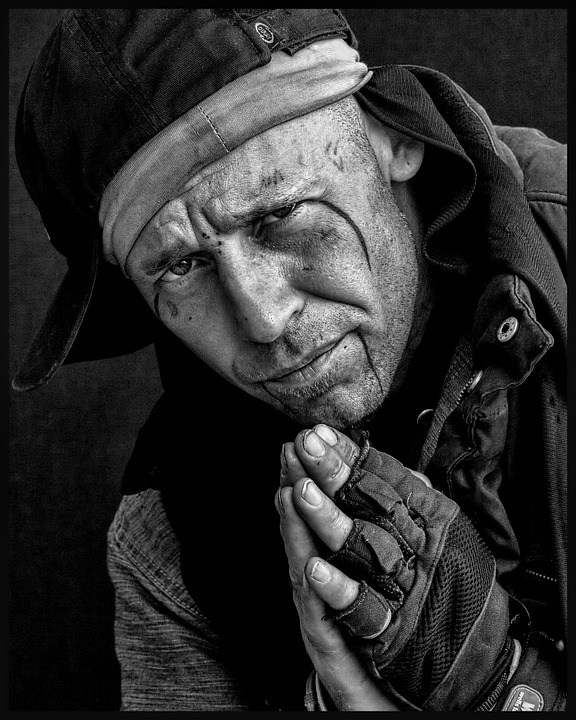sad: (97, 132, 441, 411)
